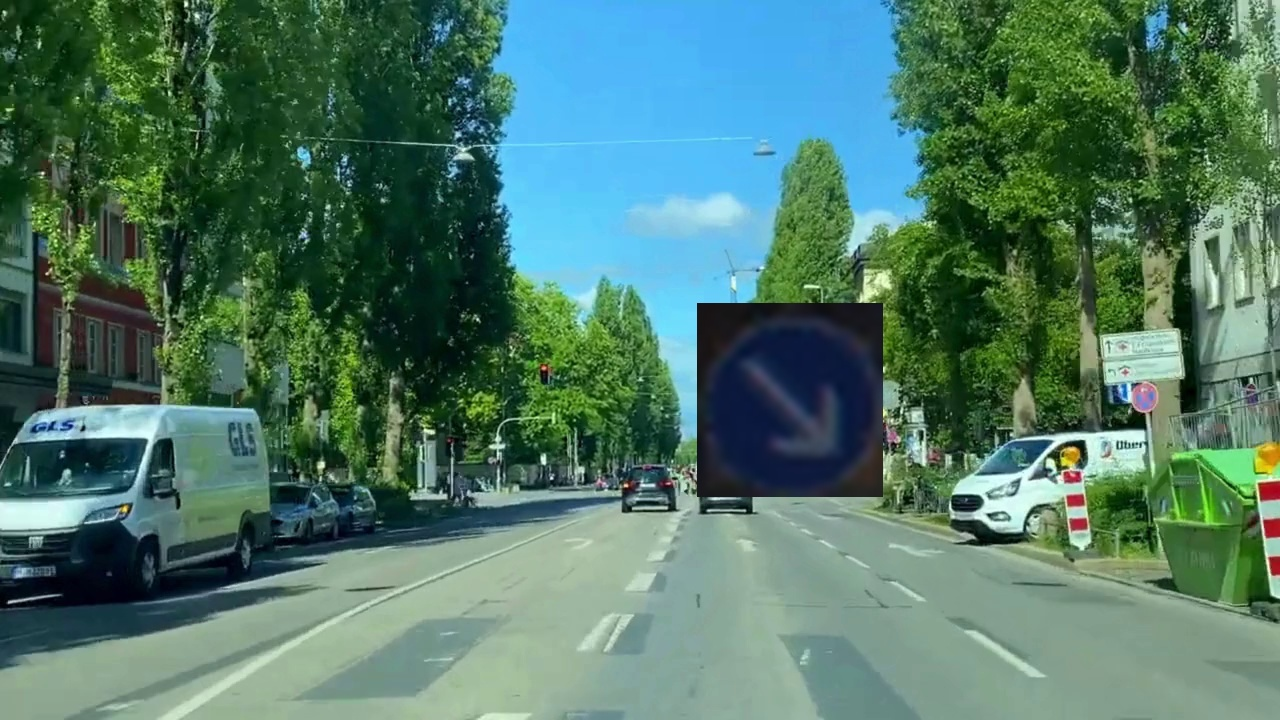Keep right: (697, 303, 883, 497)
